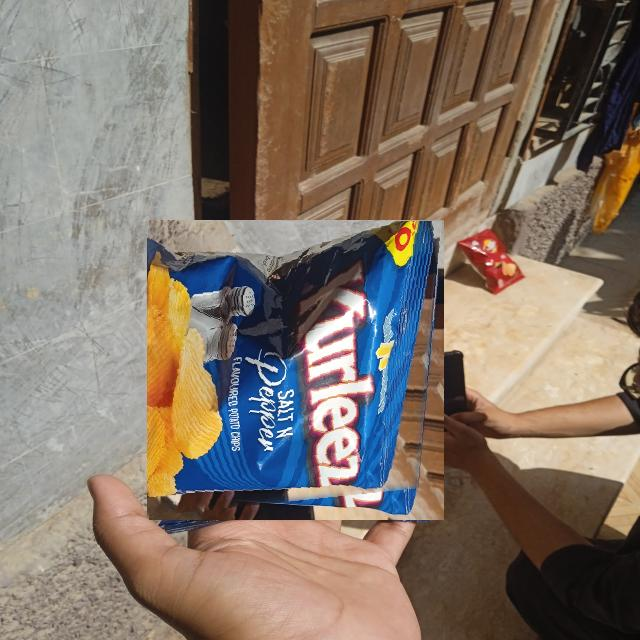Plastic: (147, 221, 445, 519)
